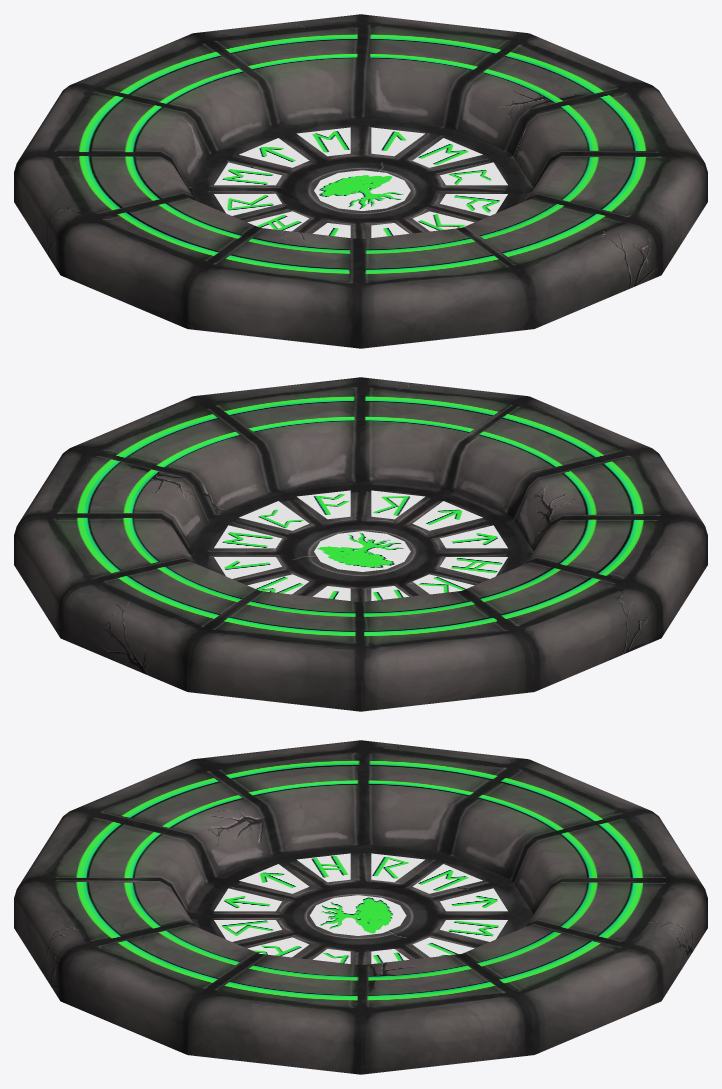
Rendered from Portal_StonePlatform-Green.fbx.
3 views of the same model, one above another, from view 1: azimuth 30°, elevation 25°; view 2: azimuth 150°, elevation 25°; view 3: azimuth 270°, elevation 25° (orthographic).
Parts seen in each view (by area): view 1: Portal_StonePlatform-Green, Portal_StonePlatform-Inscryption-Green; view 2: Portal_StonePlatform-Green, Portal_StonePlatform-Inscryption-Green; view 3: Portal_StonePlatform-Green, Portal_StonePlatform-Inscryption-Green.
Boxes of the visible parts, x1,y1,x2,y2 form: Portal_StonePlatform-Green: (14,14,707,348); Portal_StonePlatform-Inscryption-Green: (214,127,507,237); Portal_StonePlatform-Green: (14,377,707,711); Portal_StonePlatform-Inscryption-Green: (214,490,507,600); Portal_StonePlatform-Green: (14,740,707,1074); Portal_StonePlatform-Inscryption-Green: (214,853,507,963).
Size of the model in its own units: 3784 by 289 by 3784.
Materials: 2 (2 with a texture image).
